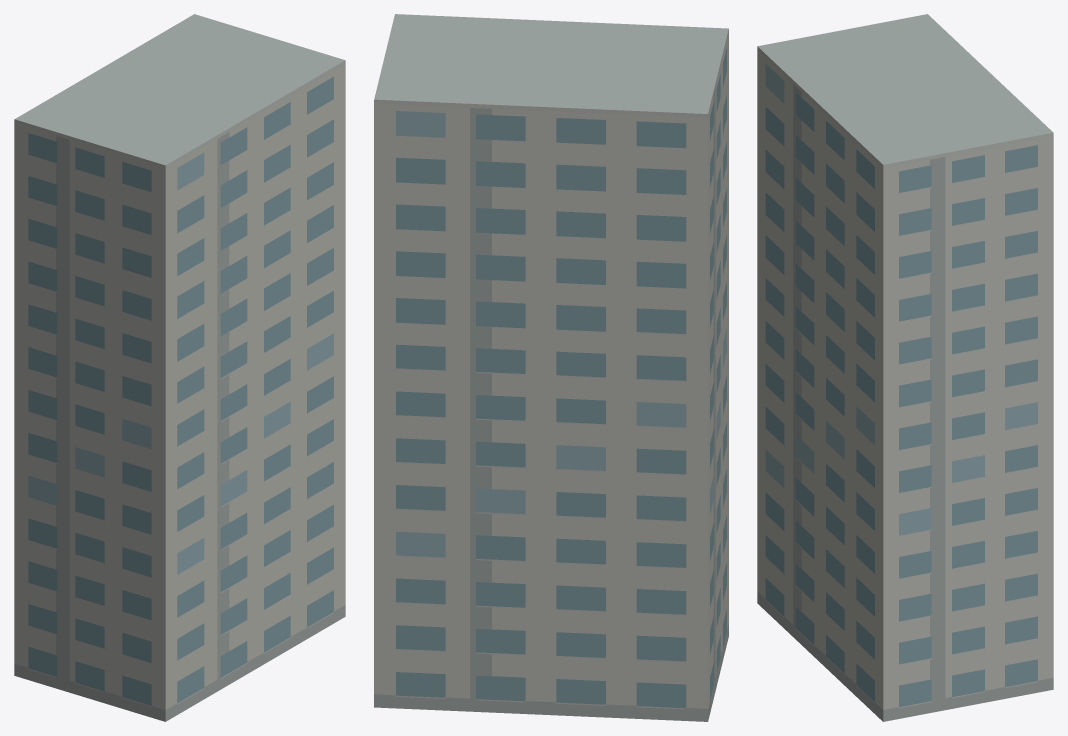
File: residential-fd6674cd-5dfd-4087-a55d-4ff05615e56f.glb
3 views of the same model, side by side, from view 1: azimuth 30°, elevation 25°; view 2: azimuth 150°, elevation 25°; view 3: azimuth 270°, elevation 25° (orthographic). The views are drawn at different scales.
Visible parts, largest first — view 1: residential-fd6674cd-5dfd-4087-a55d-4ff05615e56f.tmp; view 2: residential-fd6674cd-5dfd-4087-a55d-4ff05615e56f.tmp; view 3: residential-fd6674cd-5dfd-4087-a55d-4ff05615e56f.tmp.
Boxes of the visible parts, bbox=[...] form: residential-fd6674cd-5dfd-4087-a55d-4ff05615e56f.tmp: bbox=[14, 14, 345, 721]; residential-fd6674cd-5dfd-4087-a55d-4ff05615e56f.tmp: bbox=[374, 14, 728, 721]; residential-fd6674cd-5dfd-4087-a55d-4ff05615e56f.tmp: bbox=[757, 14, 1053, 721].
Size of the model in its own units: 20.92 by 36 by 17.35.
